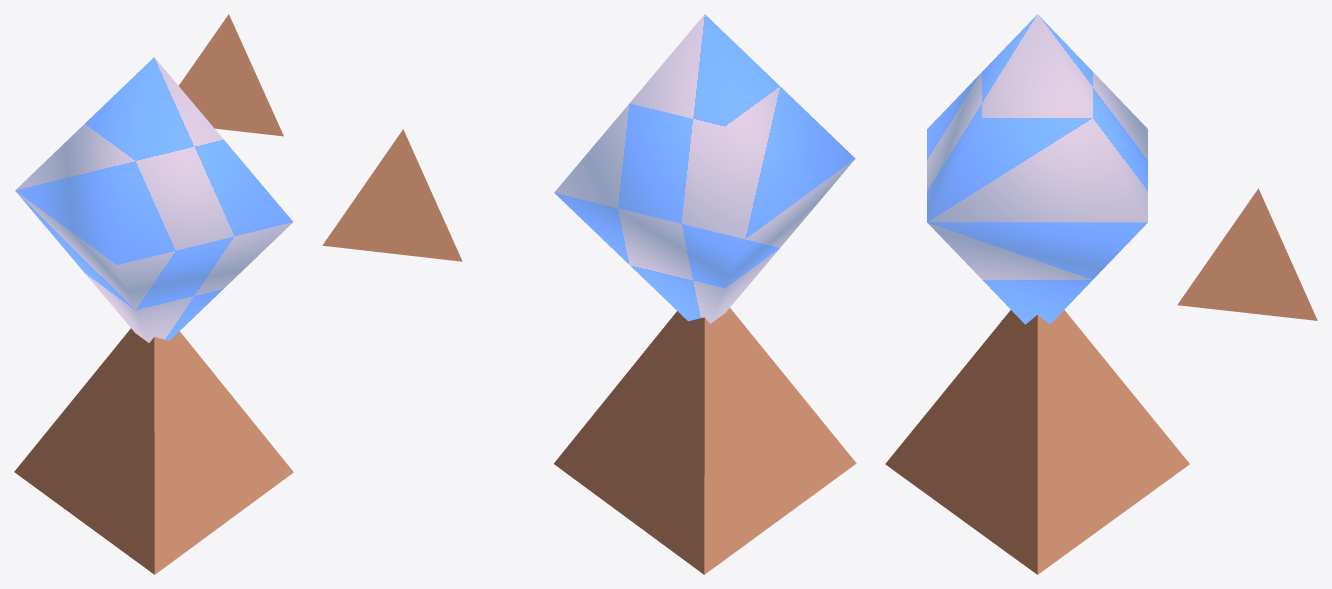
3 renders of one model, left to right at view 1: azimuth 30°, elevation 25°; view 2: azimuth 150°, elevation 25°; view 3: azimuth 270°, elevation 25°, orthographic. The views are drawn at different scales.
Parts seen in each view (by area): view 1: gem, pedestal, satellite; view 2: gem, pedestal, satellite; view 3: gem, pedestal, satellite.
Part boxes in pixels (<box>): gem: <box>15,57,292,342</box>; pedestal: <box>14,328,293,574</box>; satellite: <box>179,14,283,136</box>; gem: <box>554,14,855,323</box>; pedestal: <box>554,308,856,574</box>; satellite: <box>322,129,462,261</box>; gem: <box>927,14,1147,324</box>; pedestal: <box>885,310,1189,574</box>; satellite: <box>1177,188,1317,320</box>.
Bounding box in the file's own units: 2.1 × 2.89 × 2.33.
Materials: 2 (1 with a texture image).
